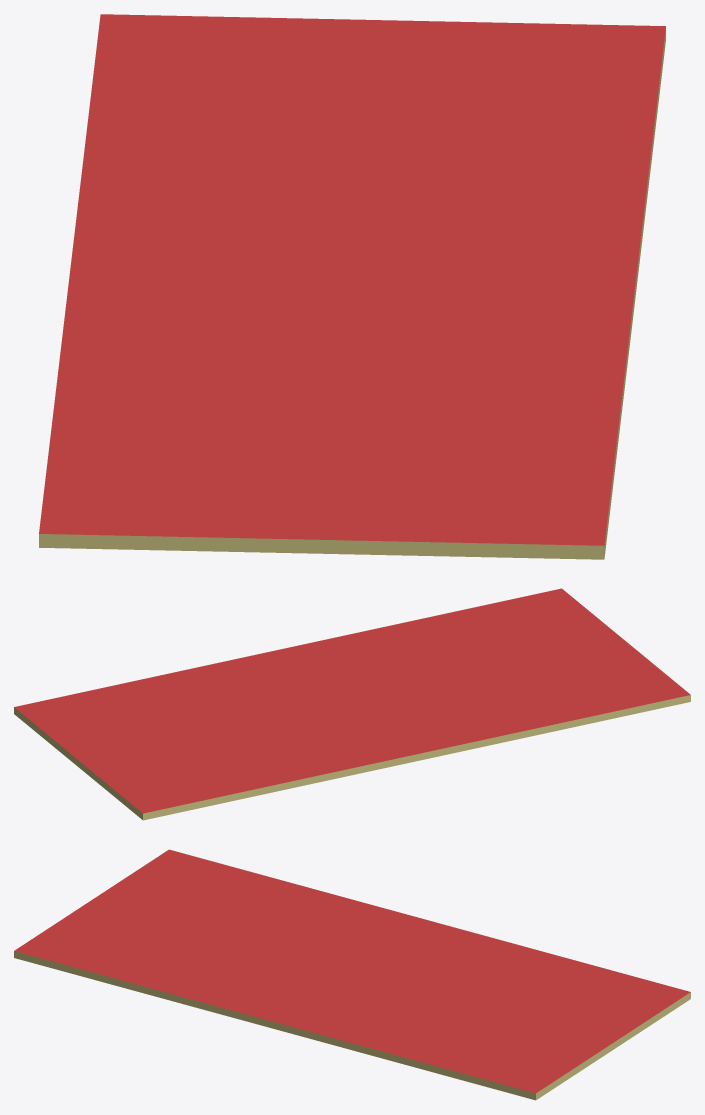
3 renders of one model, top to bottom at view 1: azimuth 30°, elevation 25°; view 2: azimuth 150°, elevation 25°; view 3: azimuth 270°, elevation 25°, orthographic. The views are drawn at different scales.
Visible parts, largest first — view 1: group_3, group_4; view 2: group_3, group_4; view 3: group_3, group_4.
Part boxes in pixels (left/top/right/bottom): group_3: left=39, top=14, right=665, bottom=545; group_4: left=39, top=28, right=665, bottom=559; group_3: left=14, top=588, right=690, bottom=813; group_4: left=14, top=695, right=690, bottom=820; group_3: left=14, top=849, right=690, bottom=1093; group_4: left=14, top=951, right=690, bottom=1100.
Size of the model in its own units: 7.45 by 8.73 by 0.1.
